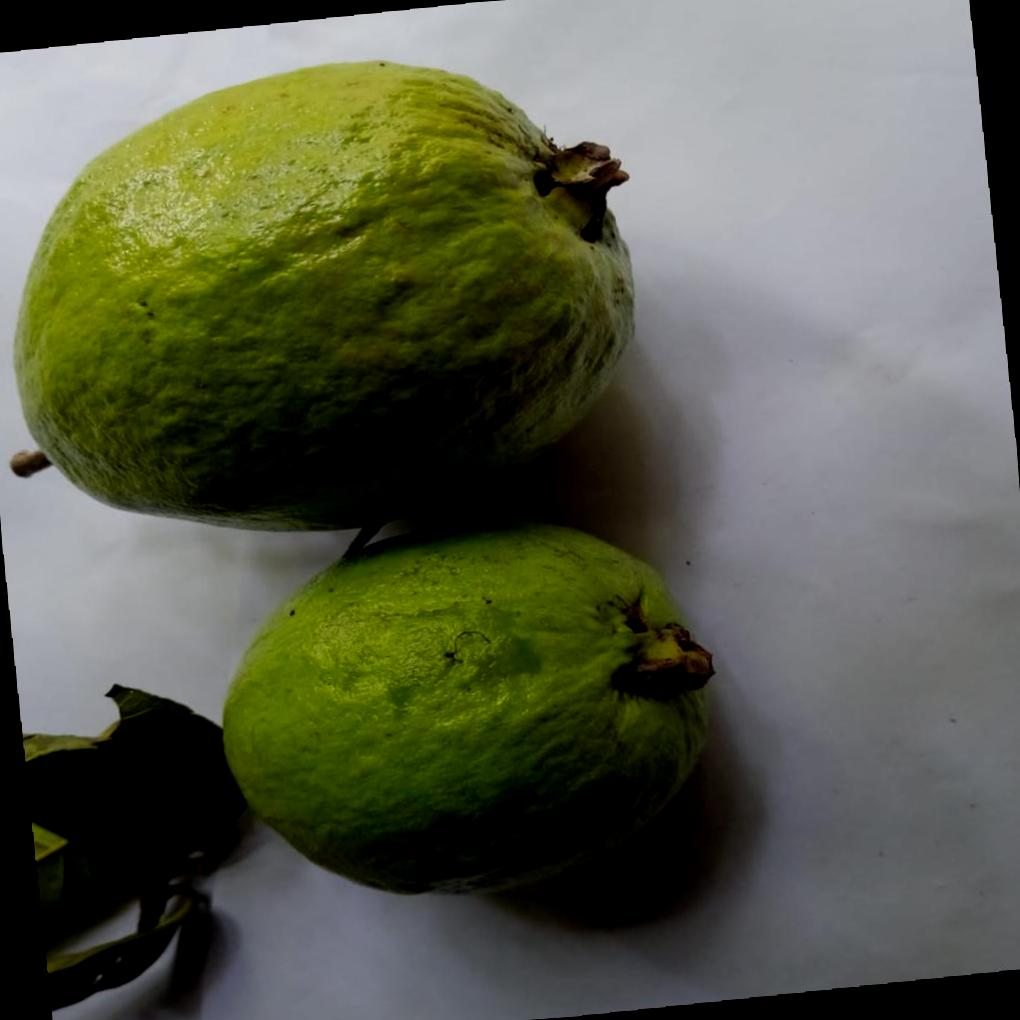FreshGuava: (11, 55, 716, 892)
